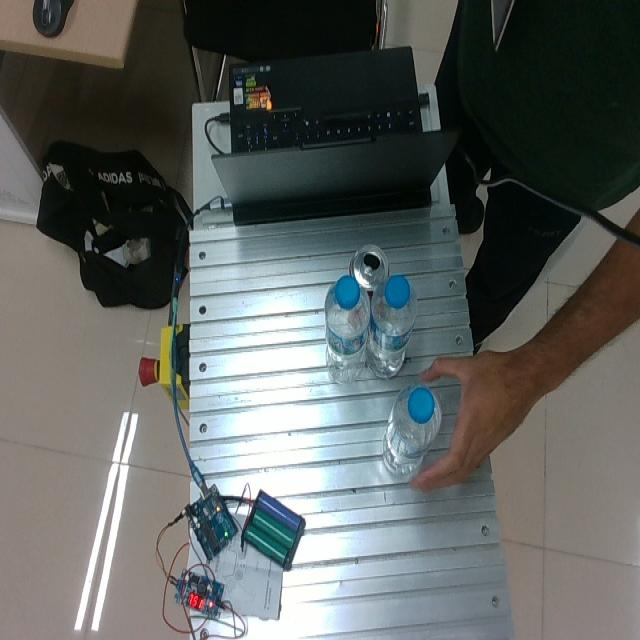coca: (348, 242, 391, 294)
lavie: (365, 273, 417, 379), (381, 384, 440, 477), (323, 276, 371, 384)
